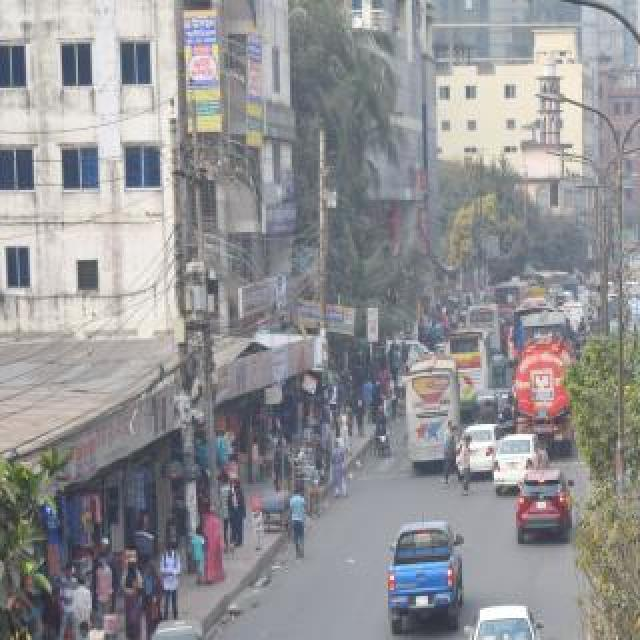bus: (403, 355, 463, 481), (443, 325, 495, 411), (466, 302, 504, 356), (491, 279, 531, 313), (622, 282, 640, 354), (521, 269, 555, 299), (628, 250, 640, 282), (551, 269, 571, 287)
car: (513, 462, 579, 538), (491, 424, 551, 500), (466, 600, 546, 640), (457, 417, 505, 477), (492, 387, 518, 433)
motorbike: (369, 399, 395, 467), (576, 316, 588, 338)
truck: (514, 313, 578, 459)
van: (387, 515, 467, 635), (626, 382, 640, 458), (562, 300, 590, 334), (557, 290, 575, 304), (638, 456, 640, 556)
